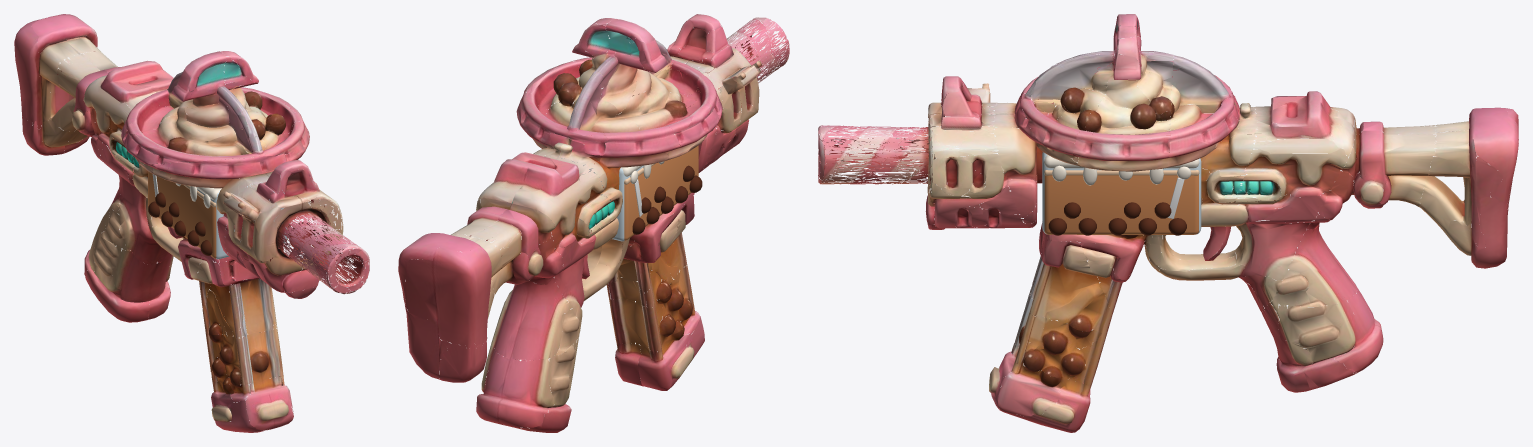
The model's file is SMG7.glb.
3 views of the same model, side by side, from view 1: azimuth 30°, elevation 25°; view 2: azimuth 150°, elevation 25°; view 3: azimuth 270°, elevation 25° (orthographic). The views are drawn at different scales.
Parts seen in each view (by area): view 1: SMG7_Body, TeaLevel, TeaCup; view 2: SMG7_Body, TeaLevel, TeaCup; view 3: SMG7_Body, TeaLevel, TeaCup.
Boxes of the visible parts, x1,y1,x2,y2 form: SMG7_Body: (14, 14, 369, 432); TeaLevel: (148, 163, 287, 258); TeaCup: (148, 143, 290, 259); SMG7_Body: (398, 14, 789, 432); TeaLevel: (624, 145, 698, 240); TeaCup: (558, 112, 702, 241); SMG7_Body: (818, 14, 1518, 432); TeaLevel: (1044, 170, 1199, 234); TeaCup: (1042, 119, 1201, 235).
Size of the model in its own units: 0.1313 by 0.2747 by 0.4324.
Materials: 7 (1 with a texture image).
